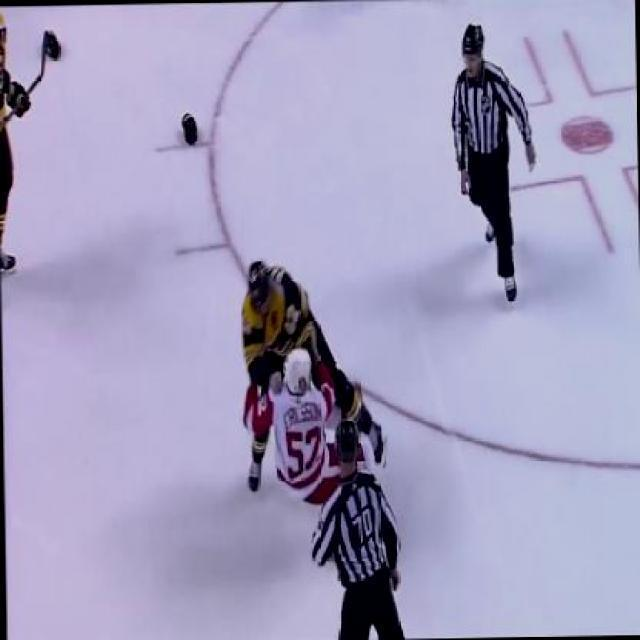fight: (234, 258, 384, 500)
